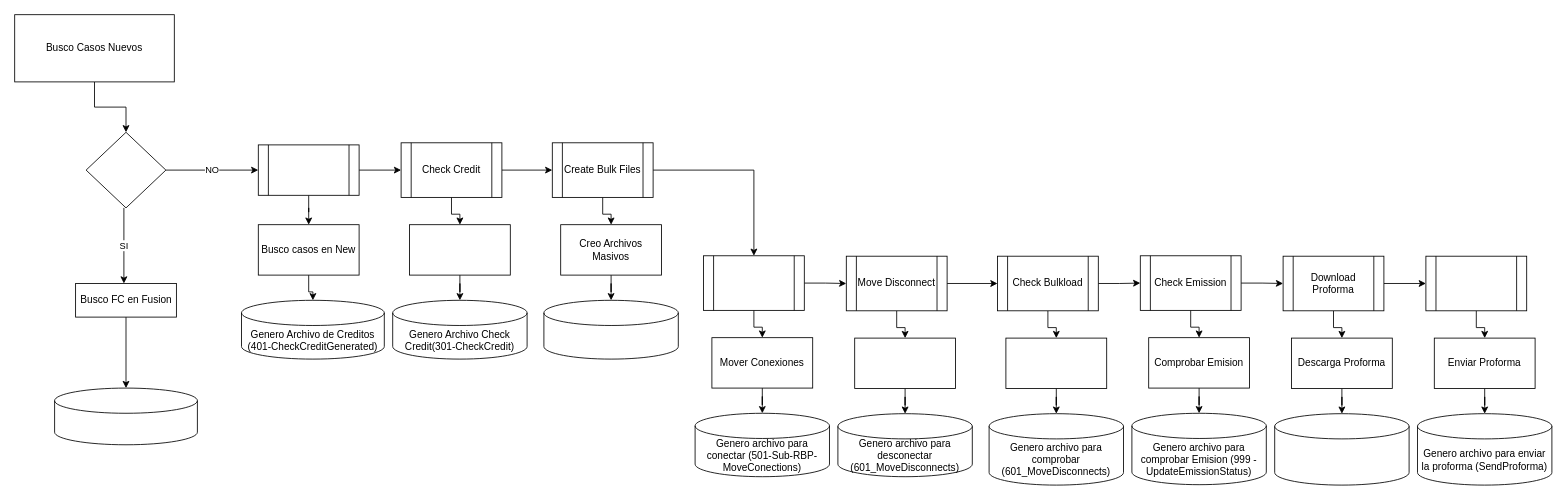
Image size: 1567x500. Some labels were removed from this diagram. The box of each missing label's shape, as (x1, y1, x2, y2) in pixels:
Comprobar Carga: (1005, 337, 1107, 388)
Credit Generation: (257, 144, 359, 195)
Desconectar: (854, 337, 956, 388)
Genero archivo descarga (DownloadProformaRebill): (1274, 413, 1409, 485)
Genero Archivo Masivo(701-CheckBulkFiles): (543, 299, 678, 359)
Genero Creditos: (409, 224, 510, 275)
Hay Casos Nuevos: (85, 131, 166, 208)
Inserto en sat_ticcket_invoices: (54, 387, 197, 445)
Move Connections: (703, 255, 804, 310)
Send Proforma: (1425, 255, 1527, 311)
